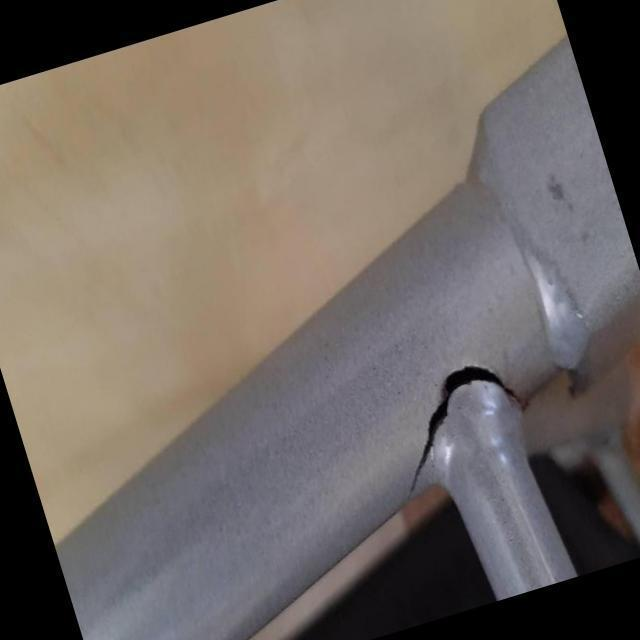defect: (404, 351, 536, 505)
